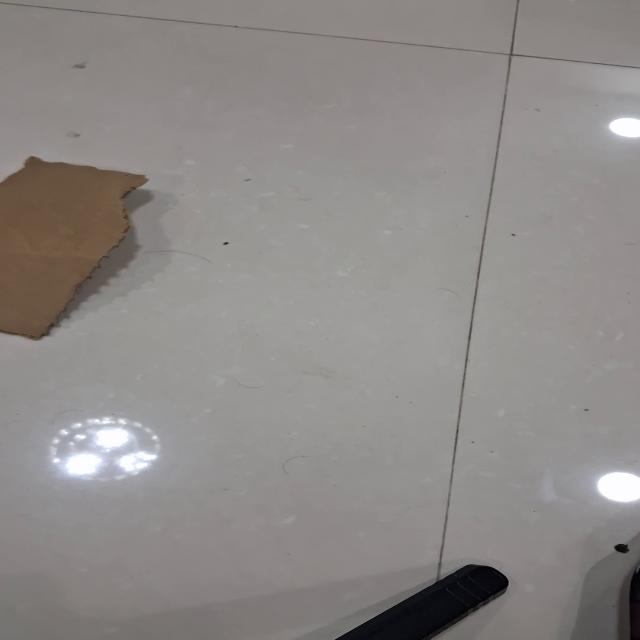paper: (1, 0, 638, 639), (0, 155, 148, 340)
